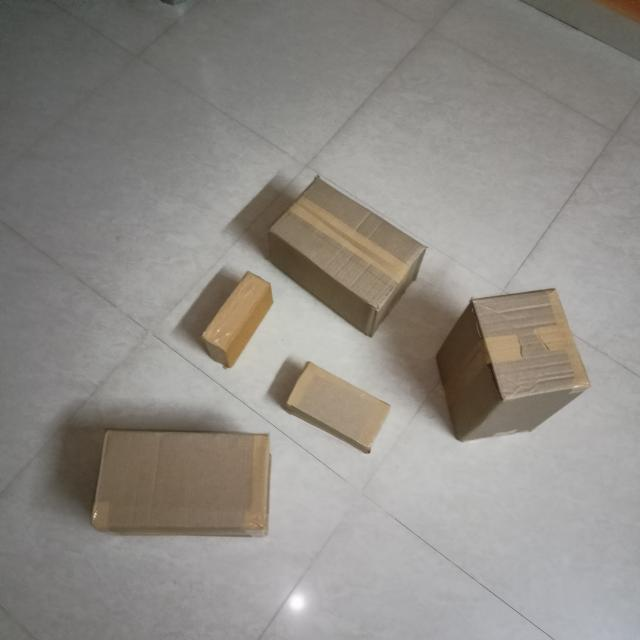box: (273, 177, 425, 314), (91, 429, 271, 530), (477, 288, 594, 401), (289, 362, 393, 448), (205, 272, 271, 351)
